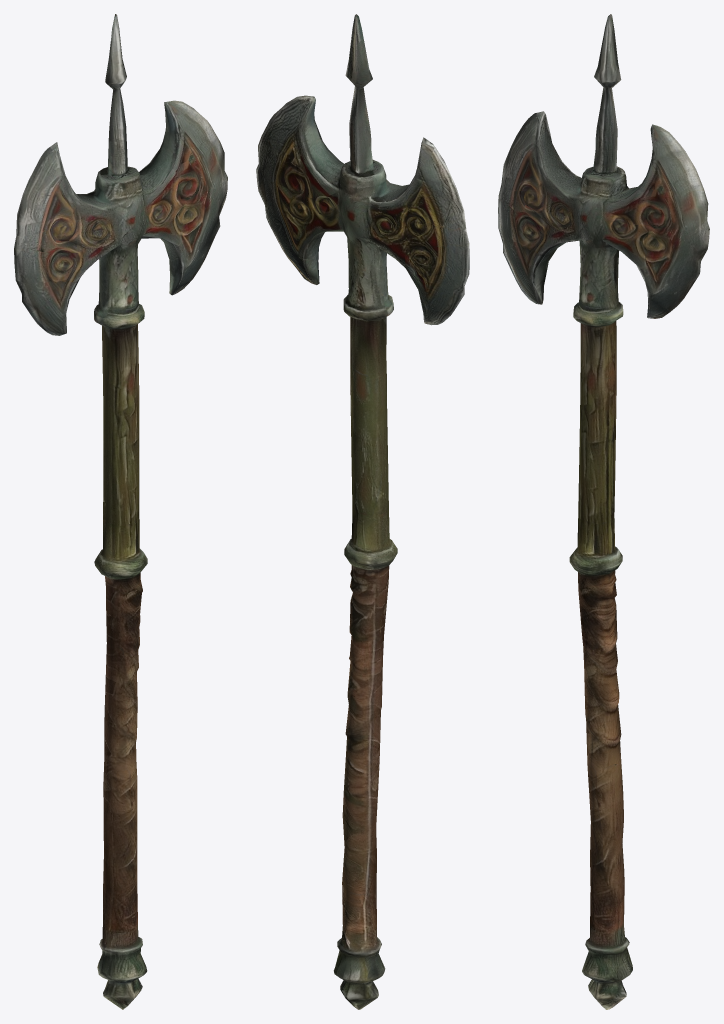
The model's file is 1638_halberd.glb.
The picture shows the model from 3 angles, left to right: view 1: azimuth 30°, elevation 25°; view 2: azimuth 150°, elevation 25°; view 3: azimuth 330°, elevation 25°; orthographic projection.
Visible parts, largest first — view 1: Model; view 2: Model; view 3: Model.
Boxes of the visible parts, x1,y1,x2,y2 form: Model: (14, 14, 227, 1009); Model: (256, 14, 469, 1009); Model: (498, 14, 709, 1009).
Bounding box in the file's own units: 0.2245 × 1 × 0.0599.
Materials: 1 (1 with a texture image).
